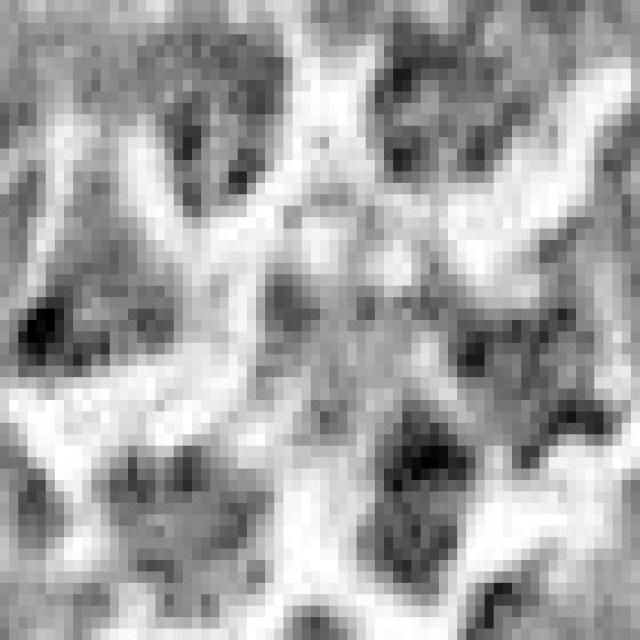inner: (247, 125, 469, 457)
lobe: (0, 173, 184, 386), (89, 433, 275, 626), (359, 16, 542, 191), (132, 19, 289, 222), (448, 302, 631, 475), (355, 396, 481, 595)
outer: (0, 0, 640, 640)
